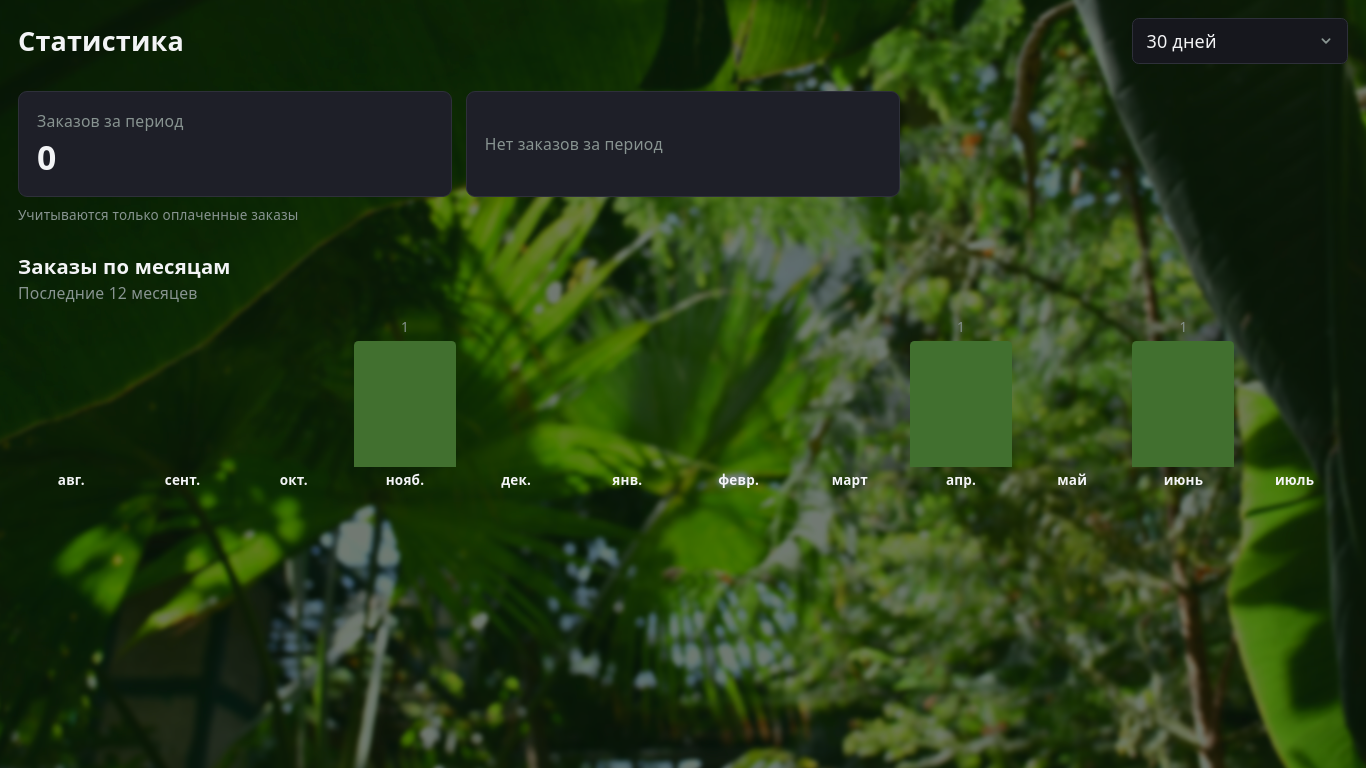
StatsPage › narrows the KPIs to the last 3 and 6 months
Expected: the text "Заказов за период" is shown, [37,110,184,132]
Select "3 месяца" in the dropdown named "Период статистики" at (1240, 41), box [1132,18,1348,64]
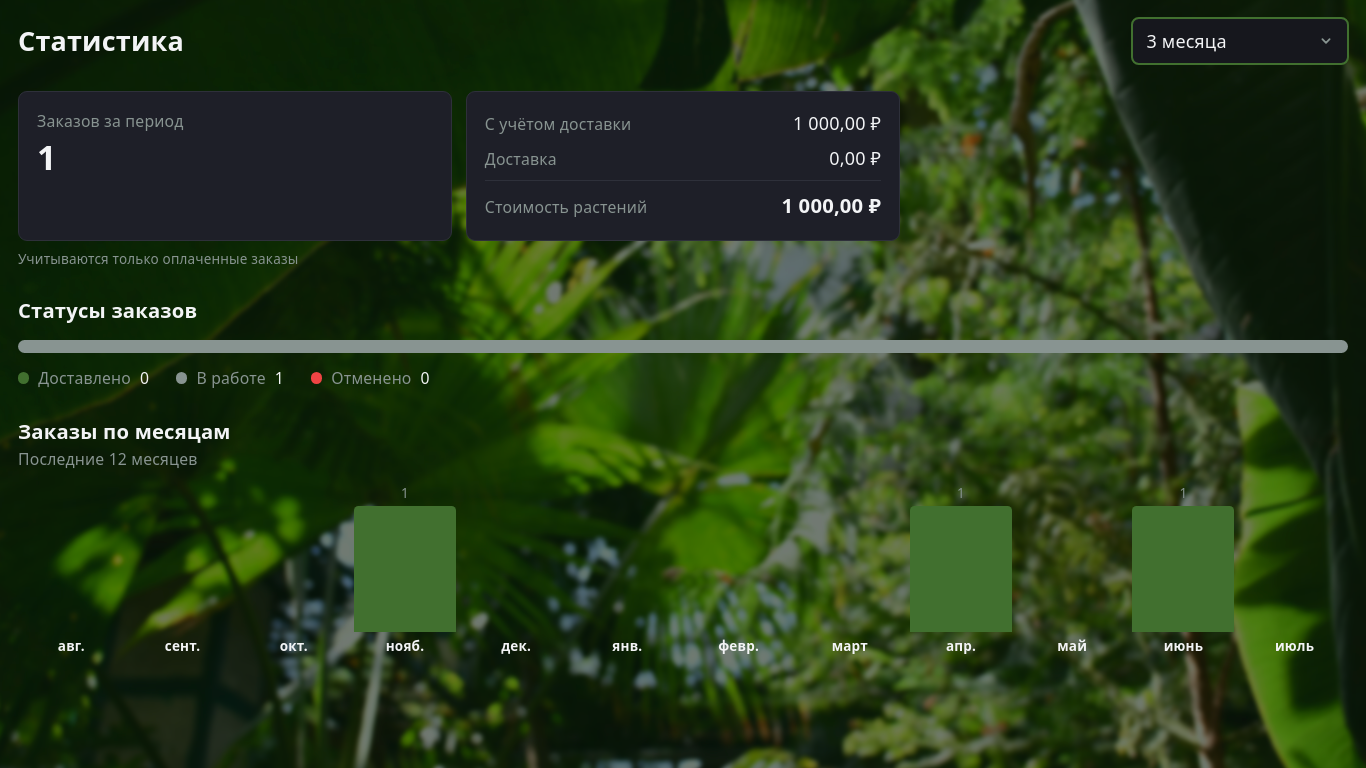
Now the text "1" below "Заказов за период" is shown, box [37,134,56,180]
Select "6 месяцев" in the dropdown named "Период статистики" at (1240, 41), box [1132,18,1348,64]
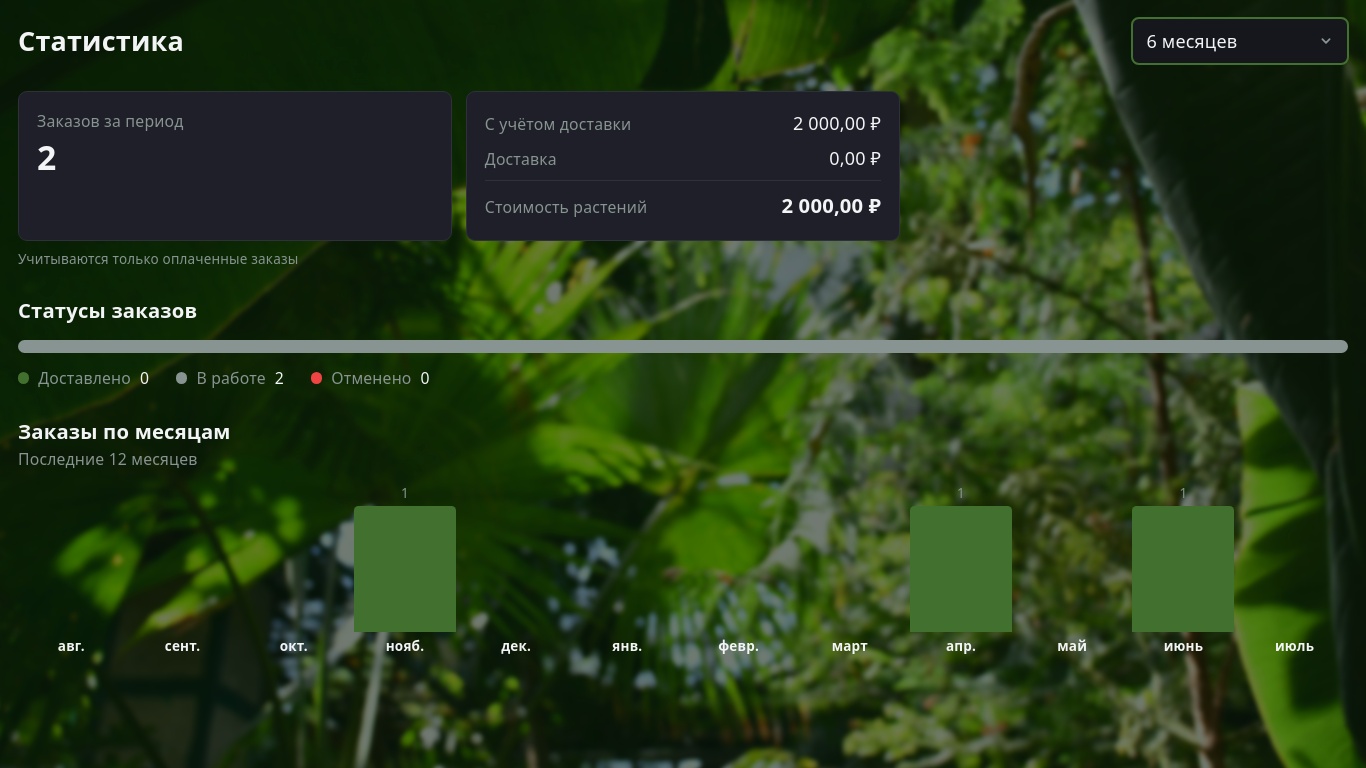
Now the text "2" below "Заказов за период" is shown, box [37,134,56,180]
